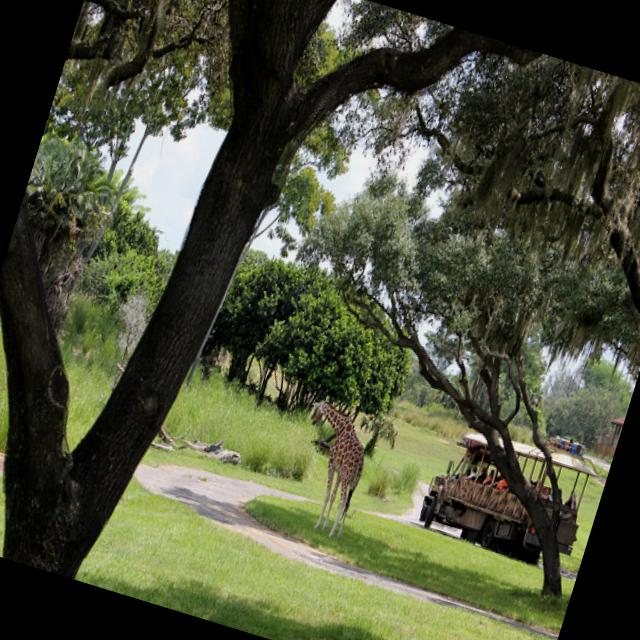Vehicle: (413, 416, 601, 576)
